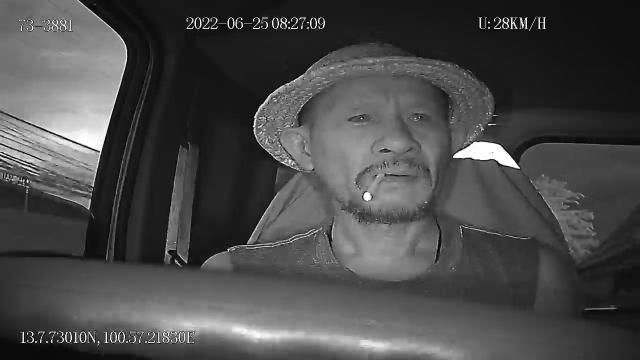SafeDriving: (340, 102, 382, 130), (400, 100, 438, 130)
Smoking: (362, 169, 384, 205)
